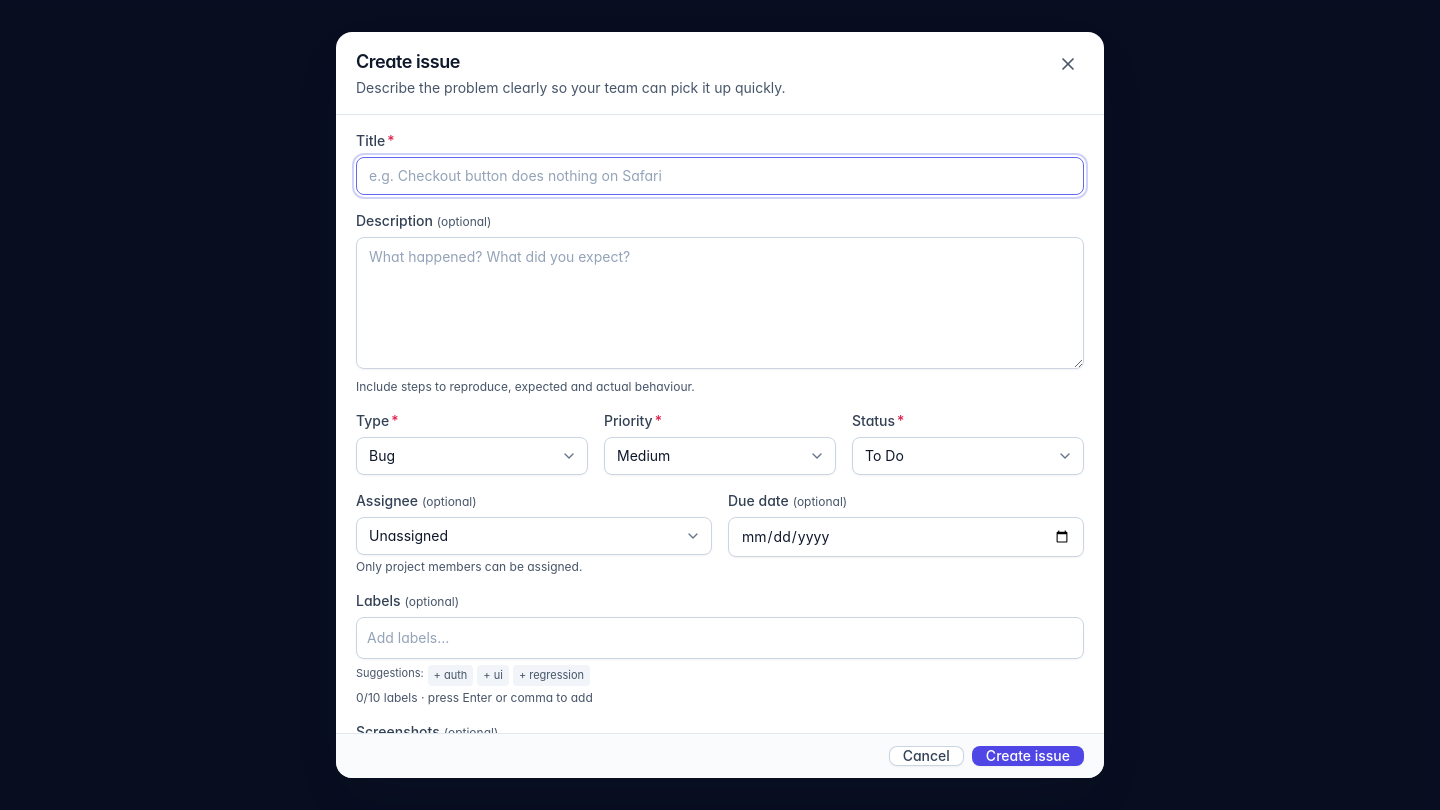
Test case: IssueFormModal › adds and removes labels as chips
Type "urgent" into the field named "add a label". click: (720, 638)
box: [365,626,1075,650]
Then press Enter
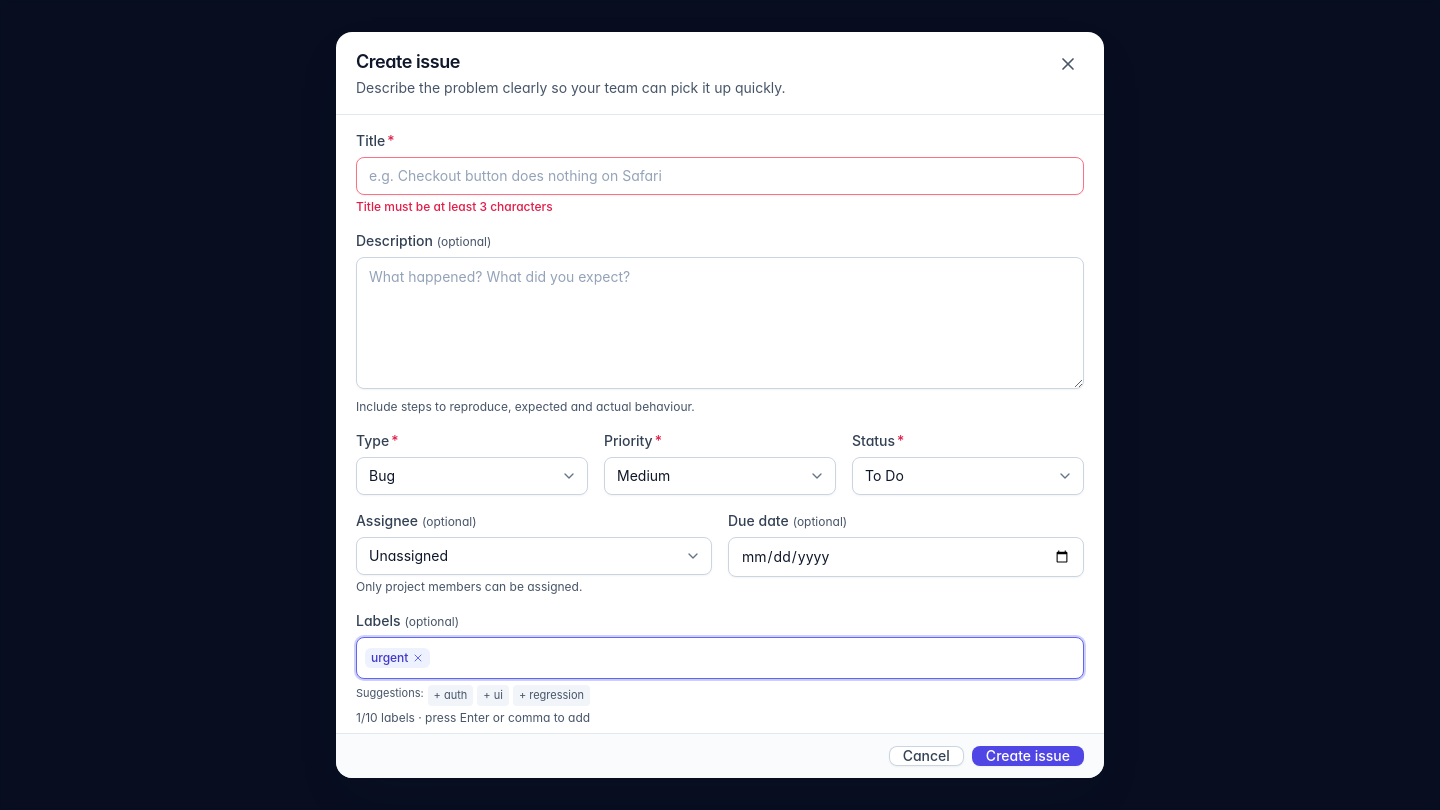
expect the text "urgent" is shown: met, box [365,648,430,668]
Click the button named "remove label urgent". click: (418, 658)
box: [412,652,424,664]
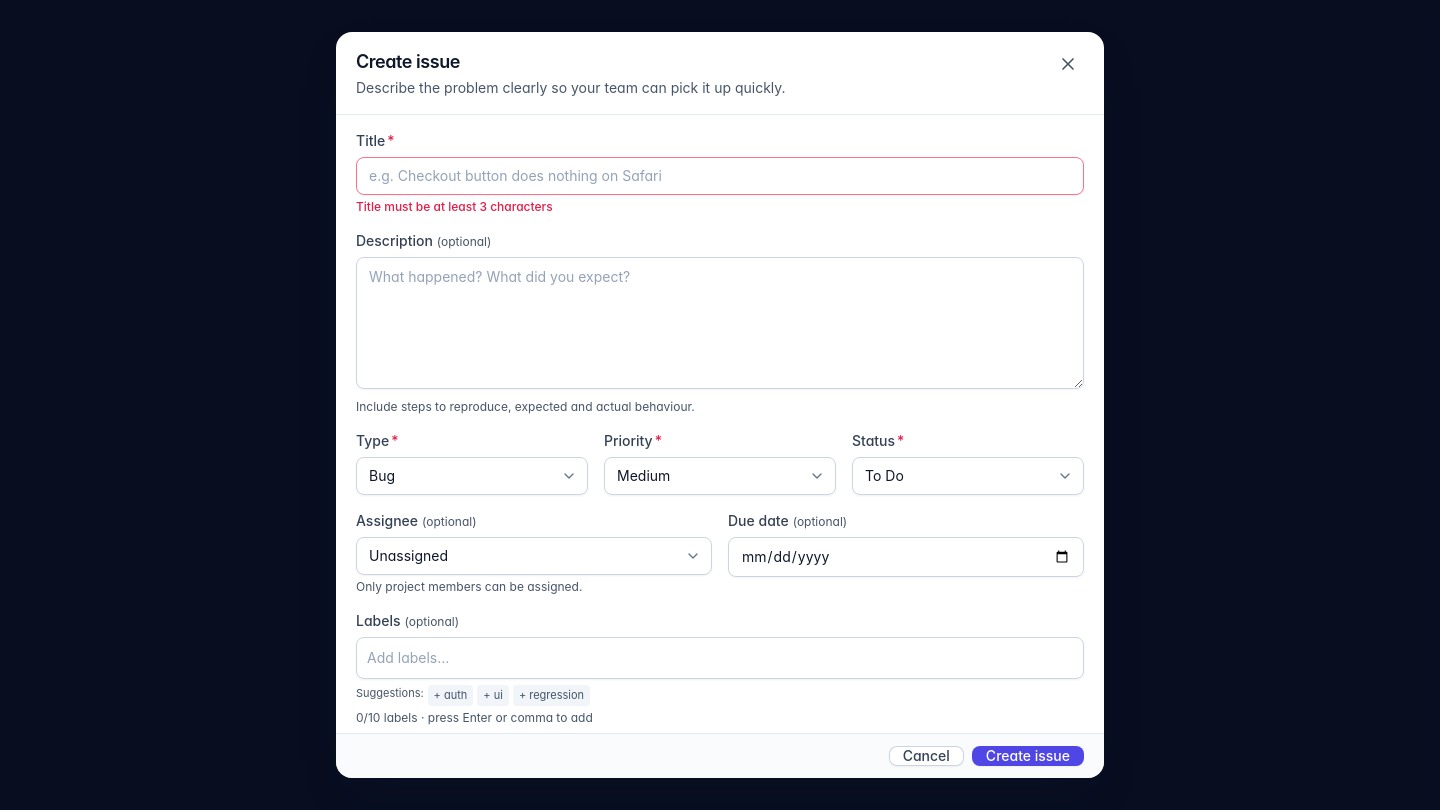
expect the text "urgent" is gone: met
